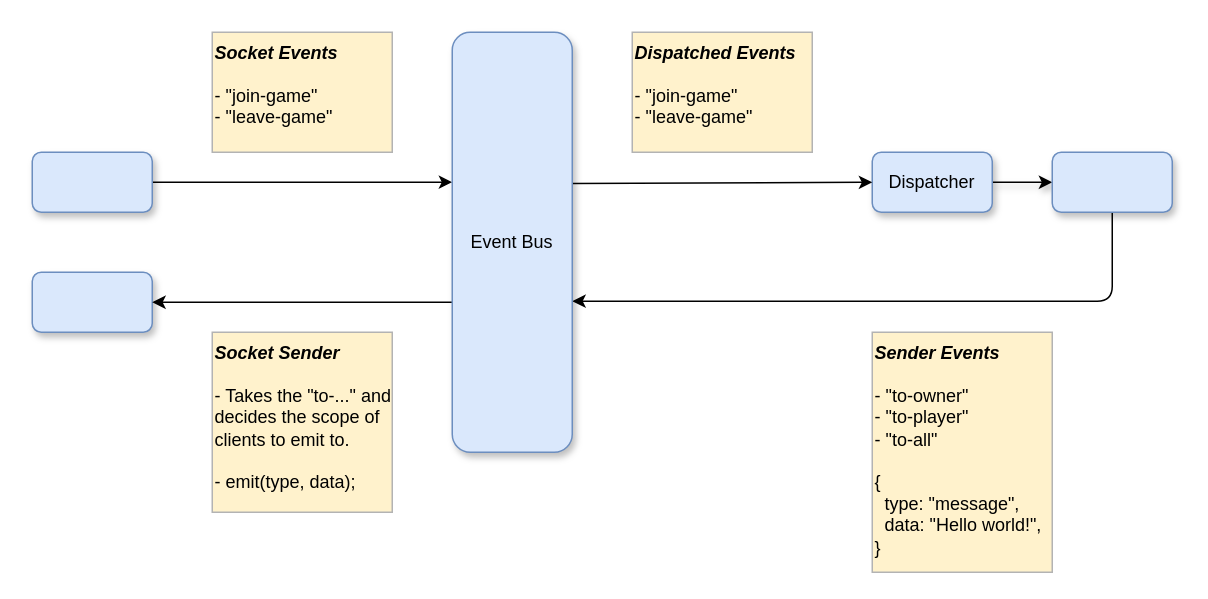
The diagram is 1208 pixels wide and 599 high, and some of its shapes have lost their labels. The shapes that lost their labels are listed below. From the top down, each one's centre as x and y in pixels, then its label:
point (93, 184): Socket Listener
point (1113, 184): Handler
point (93, 304): Socket Sender
